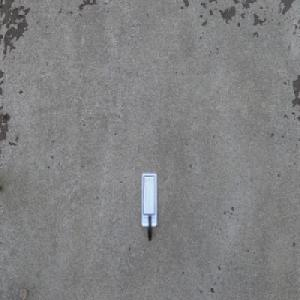LuggageTag: (140, 171, 157, 242)
